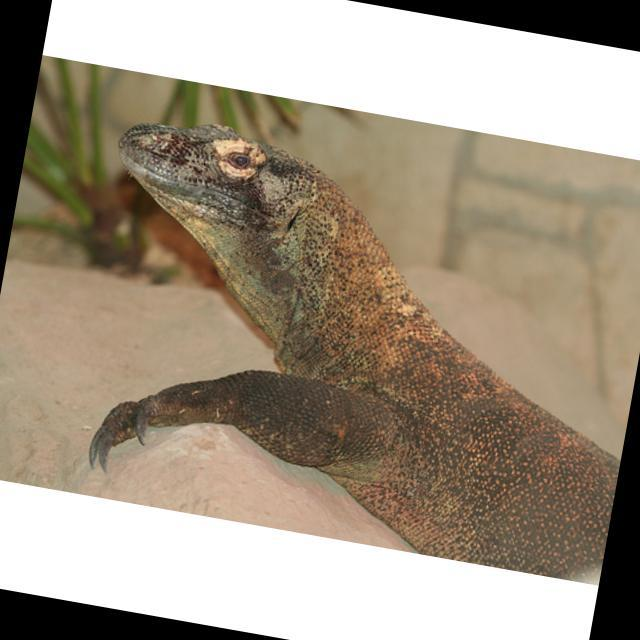KomodoDragon: (56, 106, 640, 581)
